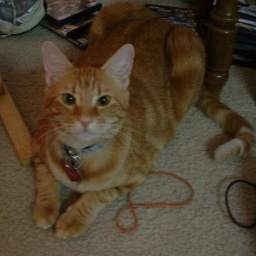cat: (27, 3, 205, 242)
